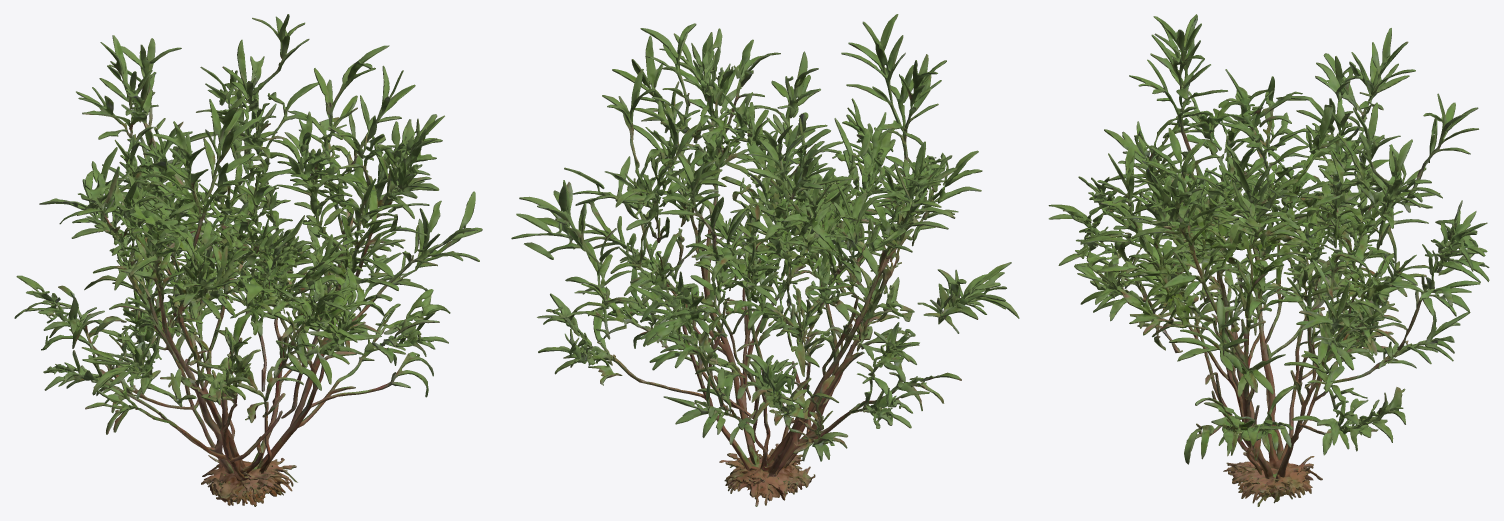
File: willow-stems-v13.glb
3 renders of one model, left to right at view 1: azimuth 30°, elevation 25°; view 2: azimuth 150°, elevation 25°; view 3: azimuth 270°, elevation 25°, orthographic.
Parts seen in each view (by area): view 1: geometry_0; view 2: geometry_0; view 3: geometry_0.
Part boxes in pixels (left/top/right/bottom): geometry_0: left=14, top=14, right=482, bottom=506; geometry_0: left=511, top=14, right=1019, bottom=506; geometry_0: left=1048, top=14, right=1489, bottom=506.
Size of the model in its own units: 0.8884 by 0.9 by 0.8227.
Materials: 1 (1 with a texture image).
